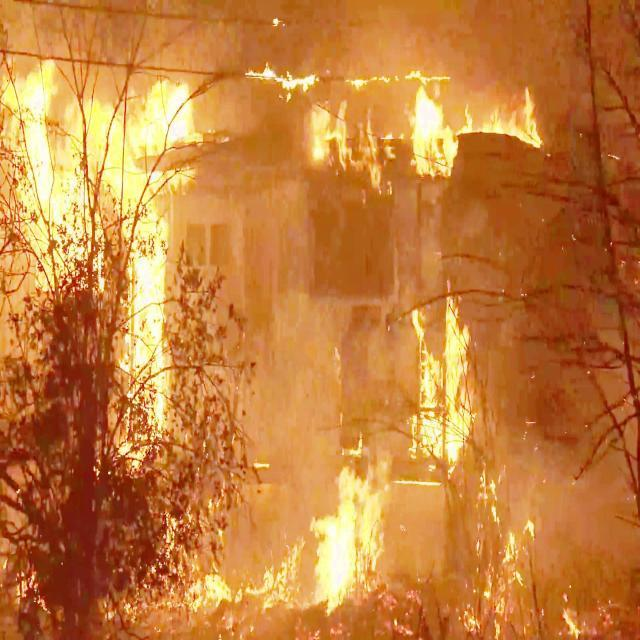Fire: (408, 276, 481, 462), (302, 474, 401, 600), (405, 73, 468, 187), (141, 68, 202, 160)
